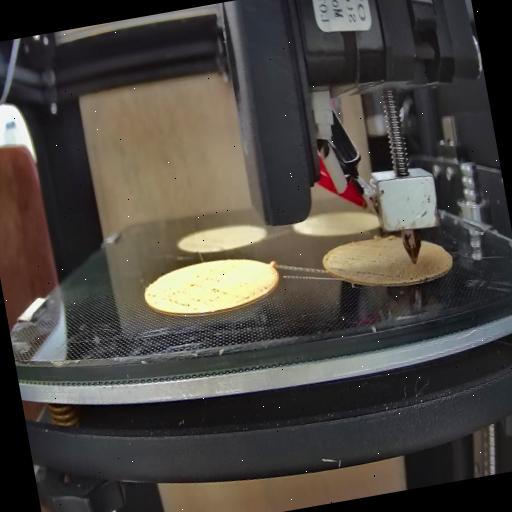under_extrusion: (324, 246, 447, 298), (150, 272, 228, 318), (236, 277, 271, 308)
